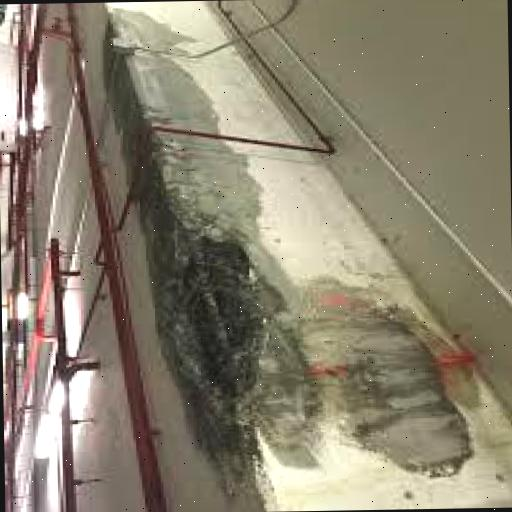spalling: (142, 190, 478, 481)
